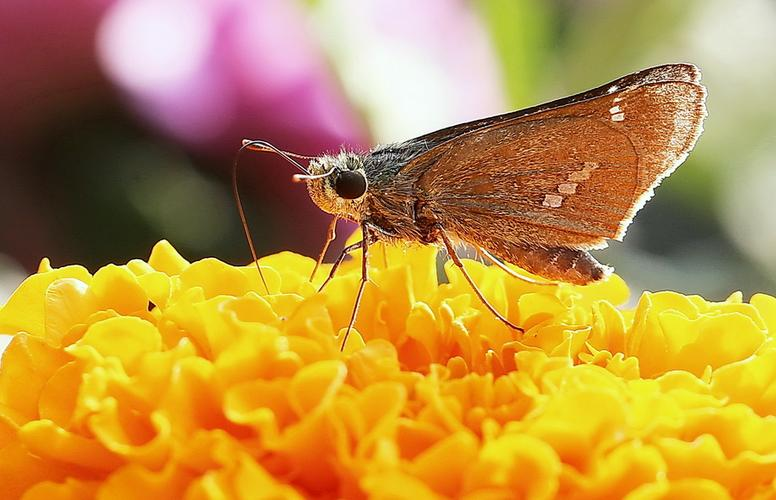Hesperiidae: (230, 58, 712, 338)
